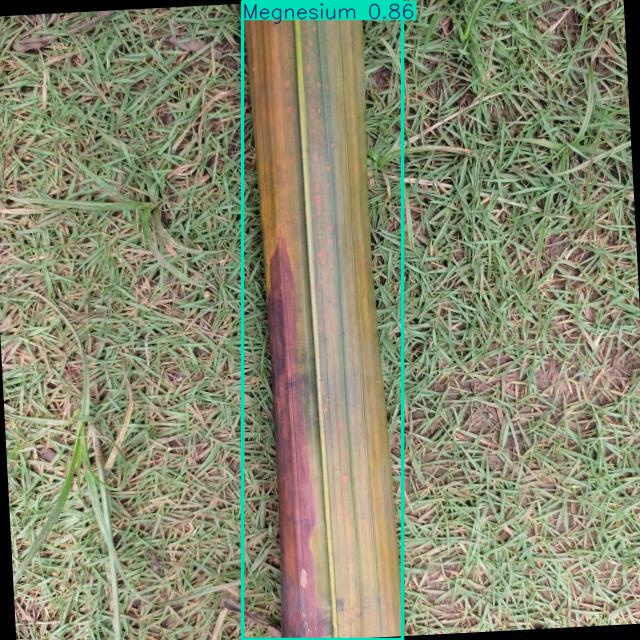Megnesium: (243, 1, 402, 639)
